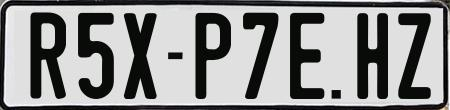5: (75, 13, 112, 100)
7: (241, 11, 278, 101)
E: (290, 12, 327, 102)
H: (354, 11, 387, 100)
P: (193, 12, 231, 99)
R: (29, 12, 68, 102)
X: (122, 11, 159, 99)
Z: (396, 10, 430, 102)
